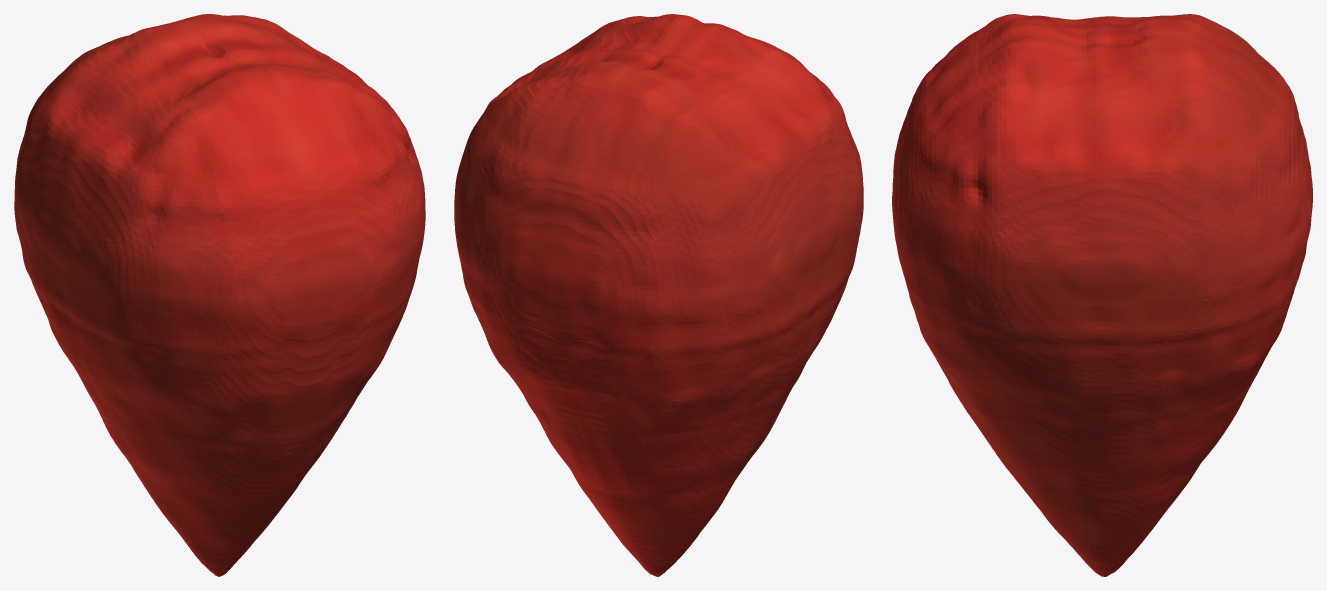
3 views of the same model, side by side, from view 1: azimuth 30°, elevation 25°; view 2: azimuth 150°, elevation 25°; view 3: azimuth 270°, elevation 25° (orthographic). The views are drawn at different scales.
Parts seen in each view (by area): view 1: tmpfq7gdx2q.ply; view 2: tmpfq7gdx2q.ply; view 3: tmpfq7gdx2q.ply.
Boxes of the visible parts, x1=… form: tmpfq7gdx2q.ply: x1=14, y1=14, x2=425, y2=576; tmpfq7gdx2q.ply: x1=454, y1=14, x2=863, y2=576; tmpfq7gdx2q.ply: x1=892, y1=14, x2=1312, y2=576.
Size of the model in its own units: 1.28 by 1.97 by 1.38.
